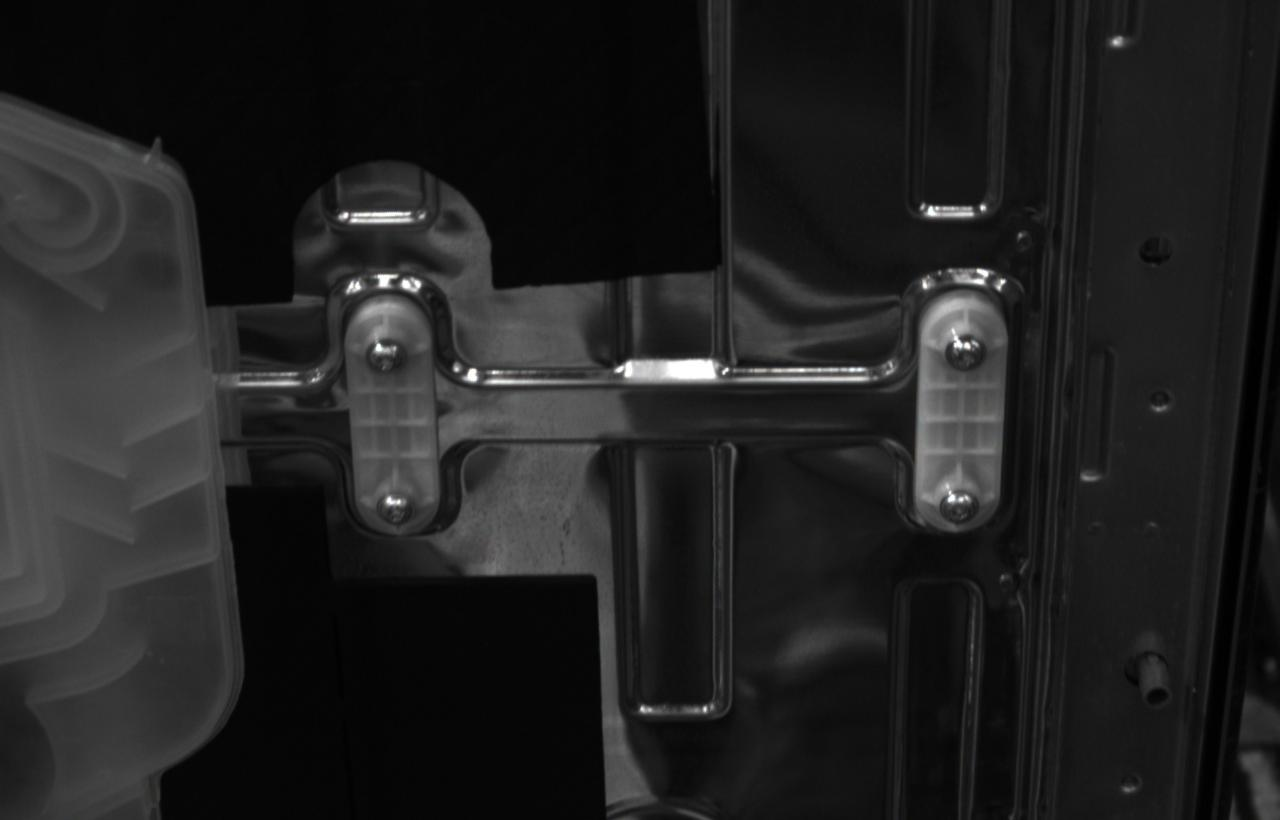vida-ok: (365, 338, 407, 373), (946, 334, 986, 370), (940, 490, 979, 523), (377, 491, 413, 525)
